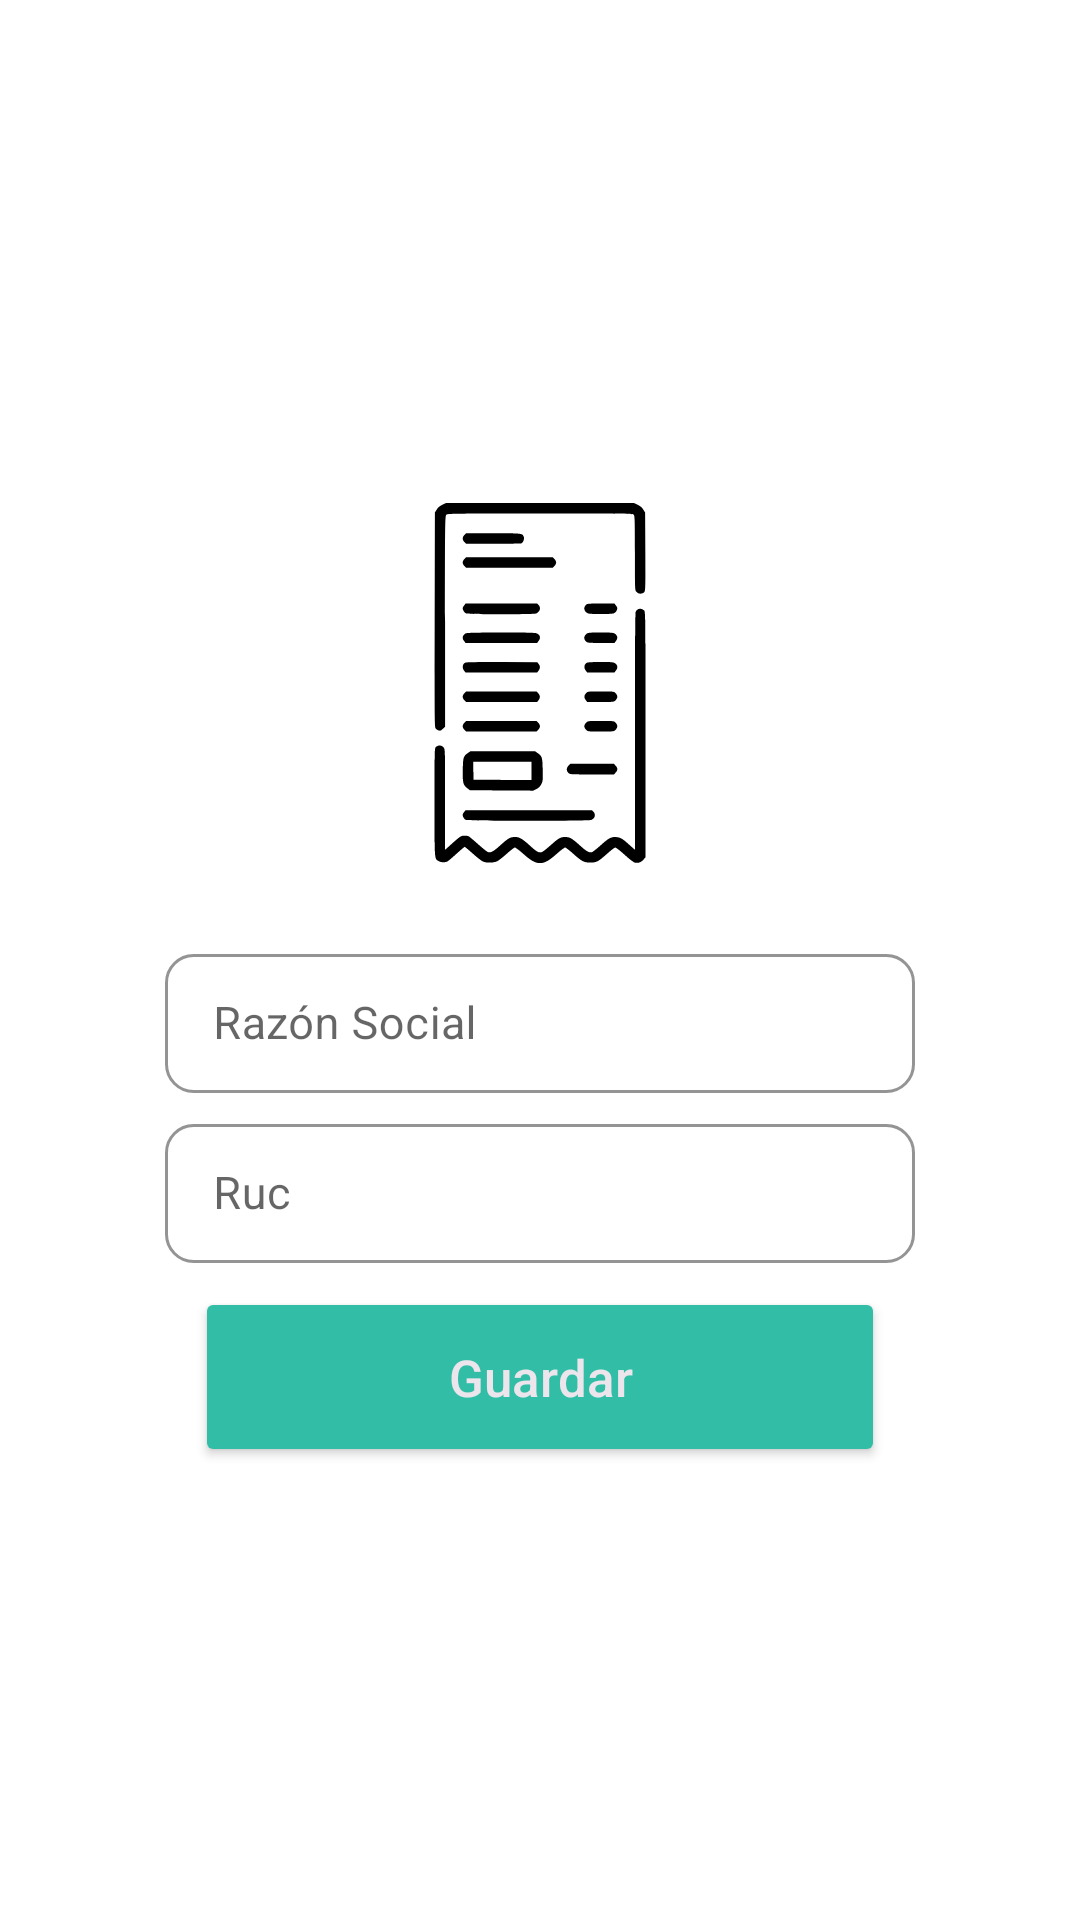

Where to tap for icons on this 1080×1920 app screen, as [x,y]:
factura: [540,683]
